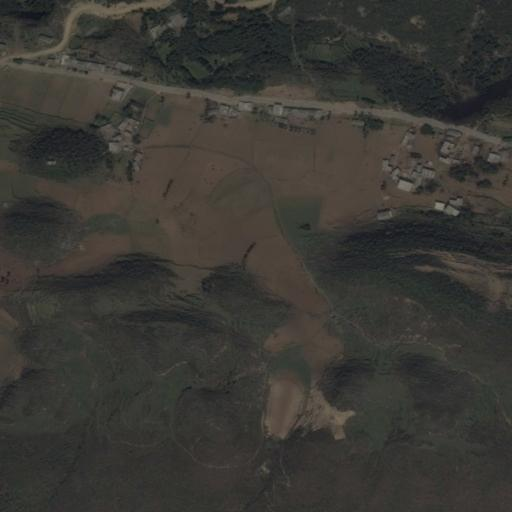landslide: (261, 374, 354, 441)
